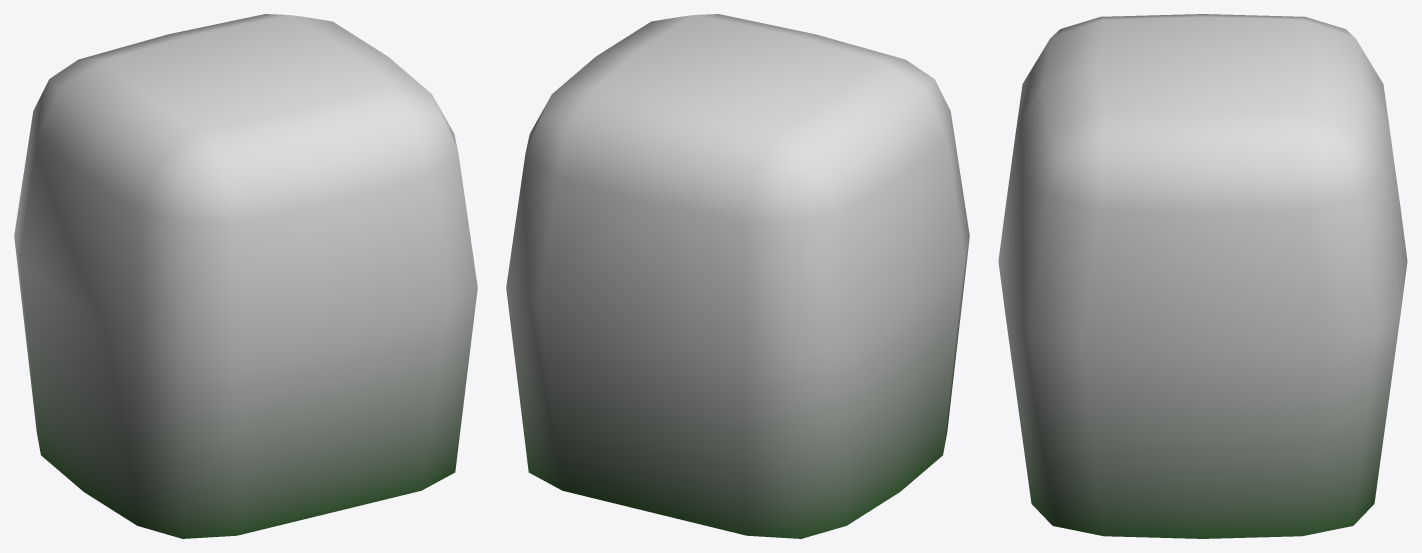
File: NF_Veg_Bush_03.fbx
3 renders of one model, left to right at view 1: azimuth 30°, elevation 25°; view 2: azimuth 150°, elevation 25°; view 3: azimuth 270°, elevation 25°, orthographic. The views are drawn at different scales.
Parts seen in each view (by area): view 1: Bush 03; view 2: Bush 03; view 3: Bush 03.
Part boxes in pixels (bbox=[...]): Bush 03: bbox=[14, 14, 477, 538]; Bush 03: bbox=[506, 14, 969, 538]; Bush 03: bbox=[998, 14, 1407, 538].
Size of the model in its own units: 0.8582 by 0.8995 by 0.8528.
